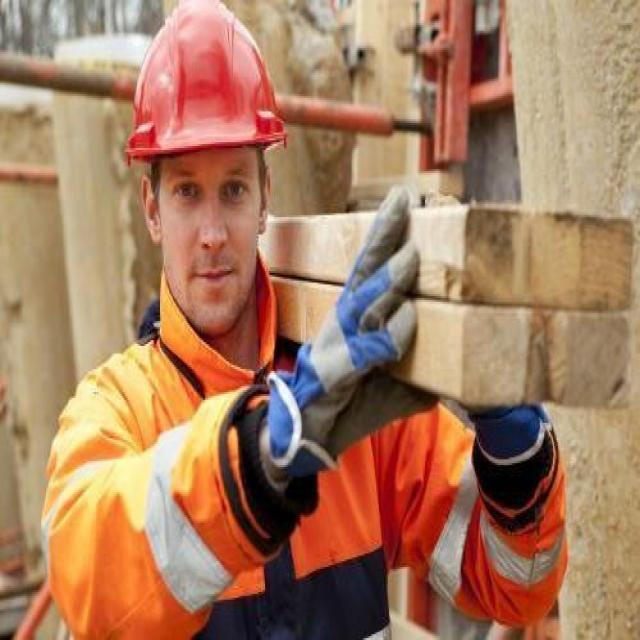Reflective-Jacket: (39, 288, 400, 625)
Safety-Helmet: (122, 8, 289, 171)
